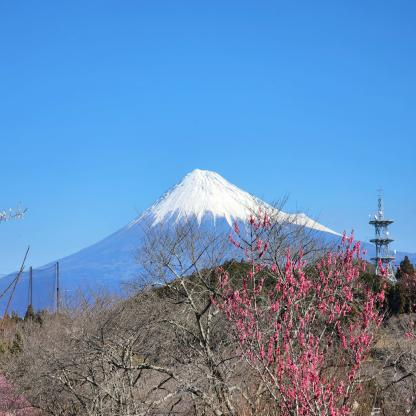Ume: (204, 207, 416, 416)
